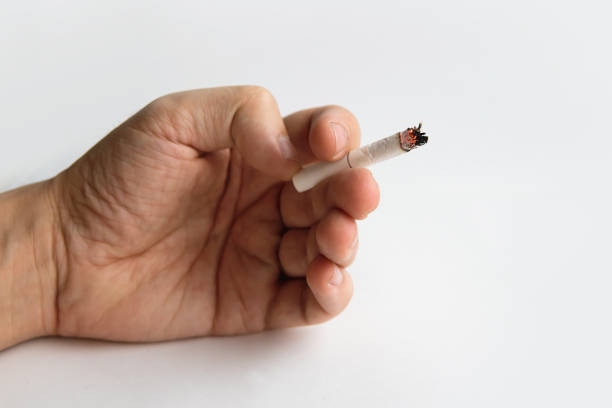cigarette: (290, 124, 430, 194)
